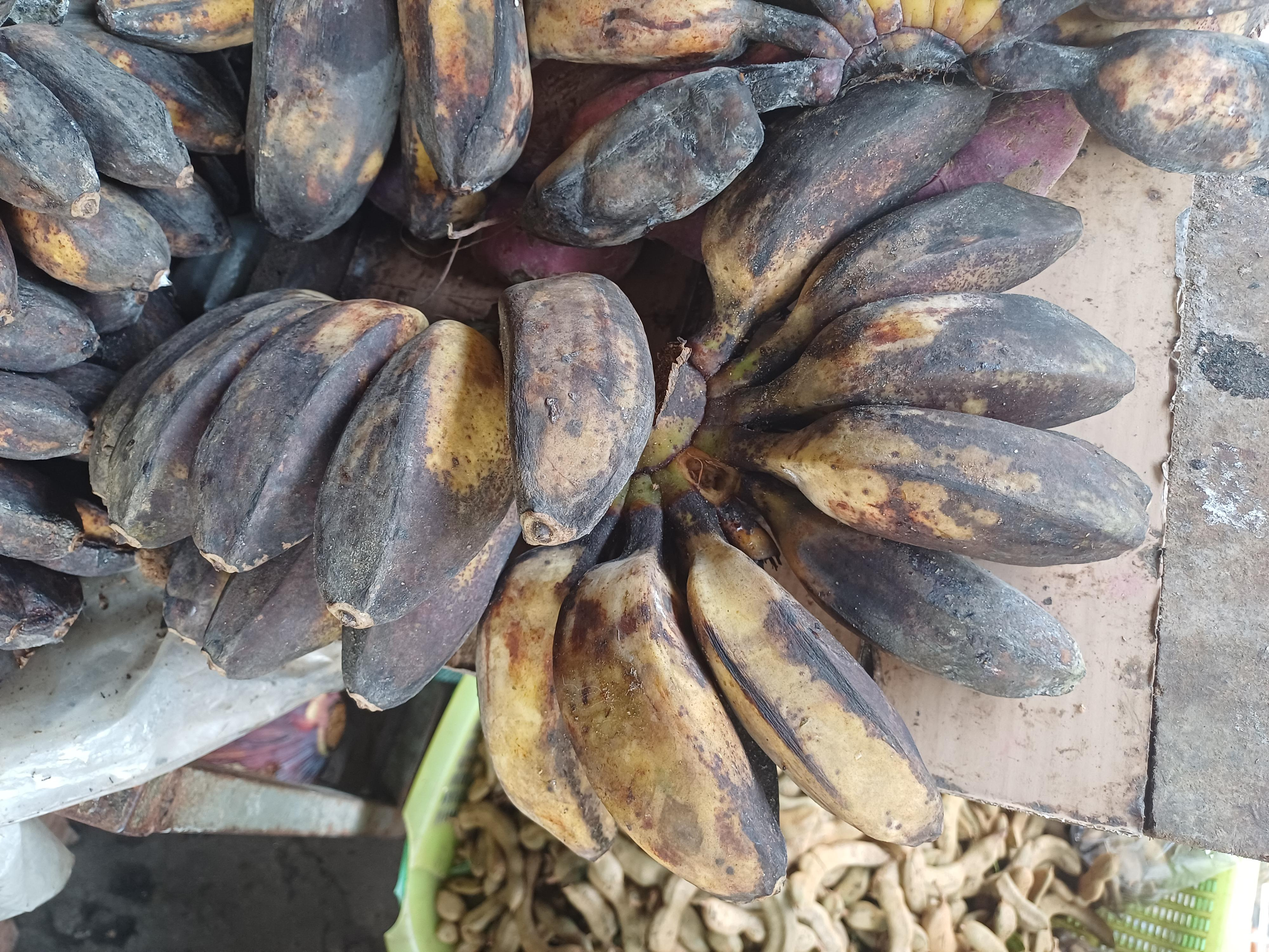overripe: (479, 78, 1151, 906), (89, 274, 655, 711), (96, 0, 532, 241), (0, 223, 181, 651), (0, 12, 246, 292)
ripe: (515, 0, 1269, 245)
